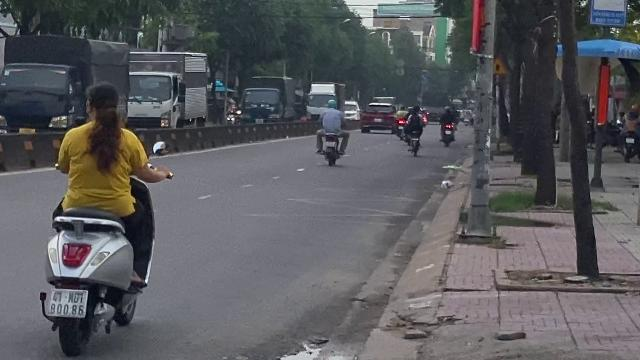licenseplate: (46, 290, 86, 316)
motorcyclist: (36, 78, 164, 358)
nohelmet: (85, 81, 124, 127)
